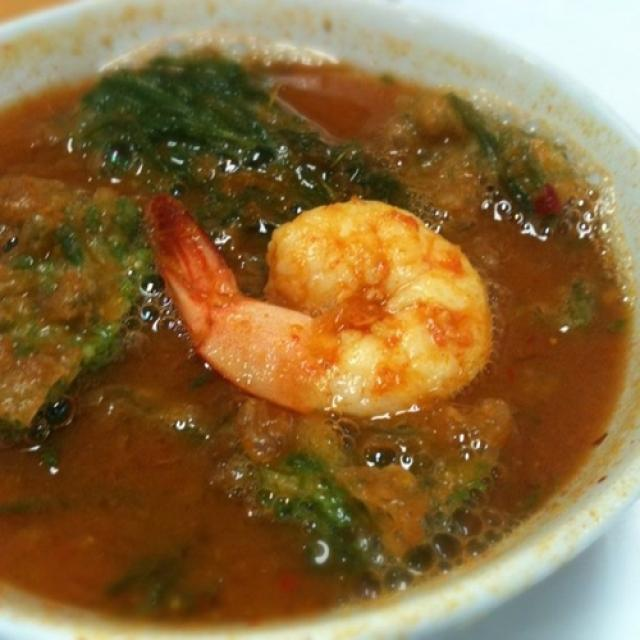汤锅炖物: (12, 37, 616, 608)
